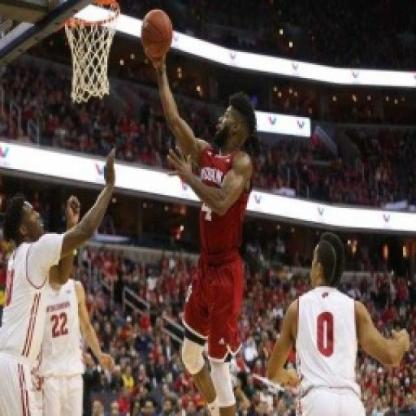basketball: (137, 6, 176, 60)
